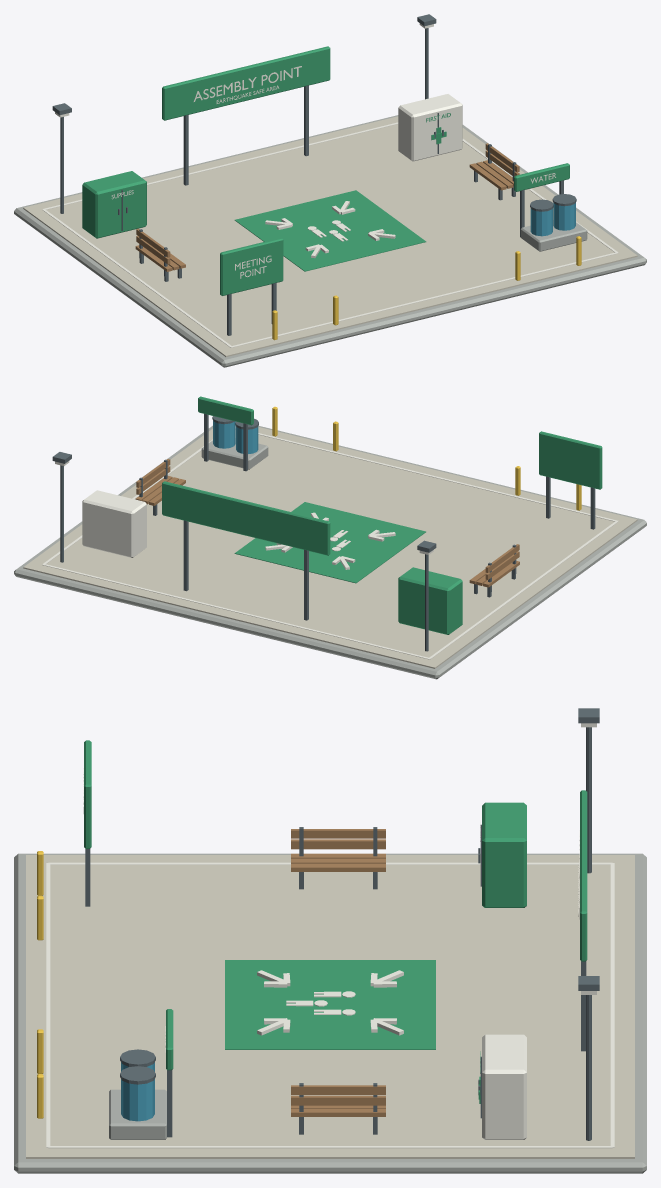
The model's file is Earthquake_Assembly_Area.fbx.
3 renders of one model, top to bottom at view 1: azimuth 30°, elevation 25°; view 2: azimuth 150°, elevation 25°; view 3: azimuth 270°, elevation 25°, orthographic. The views are drawn at different scales.
Parts seen in each view (by area): view 1: Open Assembly Surface, Assembly Area Base, Green Ground Symbol, Green Information Board.001, Emergency Supply Cabinet, First Aid Cabinet, Green Information Board.002, Water Station Plinth, Green Information Board.003, White Perimeter Marking.002, White Perimeter Marking.003, White Perimeter Marking (+3 smaller); view 2: Open Assembly Surface, Assembly Area Base, Green Information Board.001, Green Ground Symbol, First Aid Cabinet, Emergency Supply Cabinet, Green Information Board.002, Water Station Plinth, Green Information Board.003, White Perimeter Marking.003, White Perimeter Marking.002, White Perimeter Marking (+3 smaller); view 3: Open Assembly Surface, Assembly Area Base, Green Ground Symbol, Emergency Supply Cabinet, First Aid Cabinet, Water Station Plinth, White Perimeter Marking.001, White Perimeter Marking.002, White Perimeter Marking.003, Green Information Board.001, Drinking Water Barrel.001, White Perimeter Marking (+9 smaller).
Part boxes in pixels (x1=…): Open Assembly Surface: x1=23, y1=116, x2=637, y2=356; Assembly Area Base: x1=14, y1=115, x2=646, y2=367; Green Ground Symbol: x1=234, y1=190, x2=426, y2=271; Green Information Board.001: x1=162, y1=46, x2=330, y2=120; Emergency Supply Cabinet: x1=82, y1=171, x2=146, y2=238; First Aid Cabinet: x1=398, y1=94, x2=462, y2=161; Green Information Board.002: x1=220, y1=238, x2=283, y2=295; Water Station Plinth: x1=520, y1=220, x2=587, y2=251; Green Information Board.003: x1=514, y1=163, x2=569, y2=191; White Perimeter Marking.002: x1=230, y1=252, x2=618, y2=347; White Perimeter Marking.003: x1=42, y1=122, x2=398, y2=209; White Perimeter Marking: x1=43, y1=209, x2=232, y2=347; Open Assembly Surface: x1=23, y1=426, x2=637, y2=668; Assembly Area Base: x1=14, y1=425, x2=646, y2=679; Green Information Board.001: x1=162, y1=481, x2=330, y2=555; Green Ground Symbol: x1=234, y1=502, x2=425, y2=583; First Aid Cabinet: x1=82, y1=490, x2=146, y2=557; Emergency Supply Cabinet: x1=398, y1=567, x2=462, y2=634; Green Information Board.002: x1=539, y1=431, x2=602, y2=489; Water Station Plinth: x1=201, y1=438, x2=268, y2=469; Green Information Board.003: x1=198, y1=396, x2=253, y2=425; White Perimeter Marking.003: x1=42, y1=564, x2=430, y2=659; White Perimeter Marking.002: x1=235, y1=427, x2=618, y2=521; White Perimeter Marking: x1=429, y1=521, x2=618, y2=659; Open Assembly Surface: x1=26, y1=855, x2=634, y2=1158; Assembly Area Base: x1=14, y1=853, x2=646, y2=1173; Green Ground Symbol: x1=225, y1=960, x2=435, y2=1049; Emergency Supply Cabinet: x1=482, y1=802, x2=526, y2=907; First Aid Cabinet: x1=482, y1=1034, x2=526, y2=1139; Water Station Plinth: x1=109, y1=1089, x2=166, y2=1139; White Perimeter Marking.001: x1=48, y1=1146, x2=612, y2=1148; White Perimeter Marking.002: x1=46, y1=863, x2=50, y2=1147; White Perimeter Marking.003: x1=610, y1=863, x2=614, y2=1147; Green Information Board.001: x1=580, y1=790, x2=587, y2=961; Drinking Water Barrel.001: x1=121, y1=1079, x2=154, y2=1121; White Perimeter Marking: x1=48, y1=862, x2=612, y2=864.
Size of the model in its own units: 1400 by 362 by 1200.
